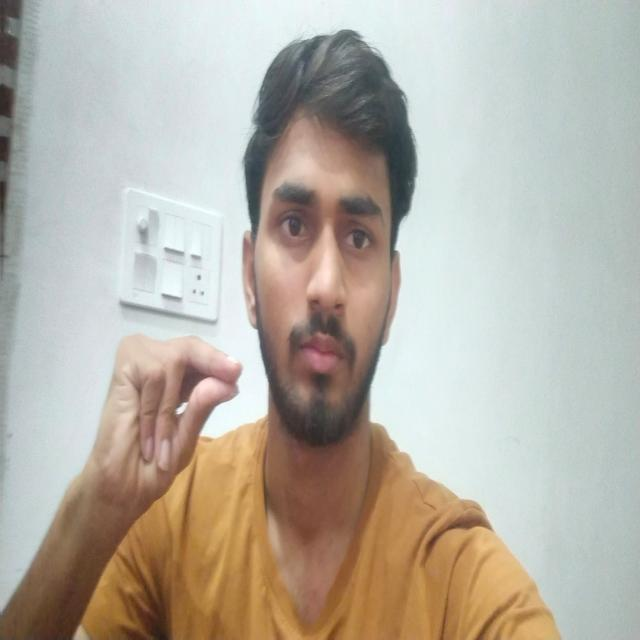No: (74, 230, 246, 515)
